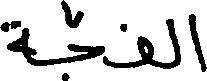X: (69, 2, 103, 80), (0, 16, 28, 67), (190, 9, 206, 76), (164, 14, 180, 73), (138, 31, 153, 71)
